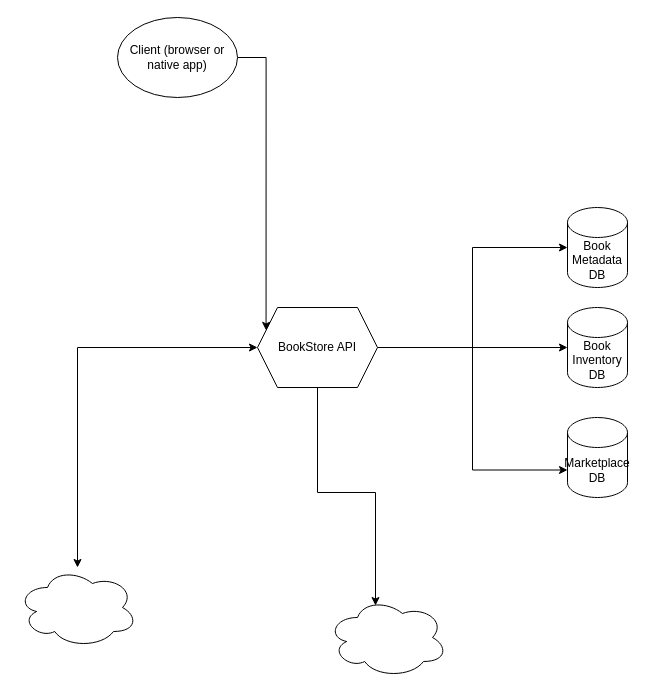
The diagram is 647 pixels wide and 695 high, and some of its shapes have lost their labels. The centre of each missing label's shape, as x and y in pixels:
"Goodreads API" belongs at point 387,637.
"Payment API" belongs at point 77,607.
